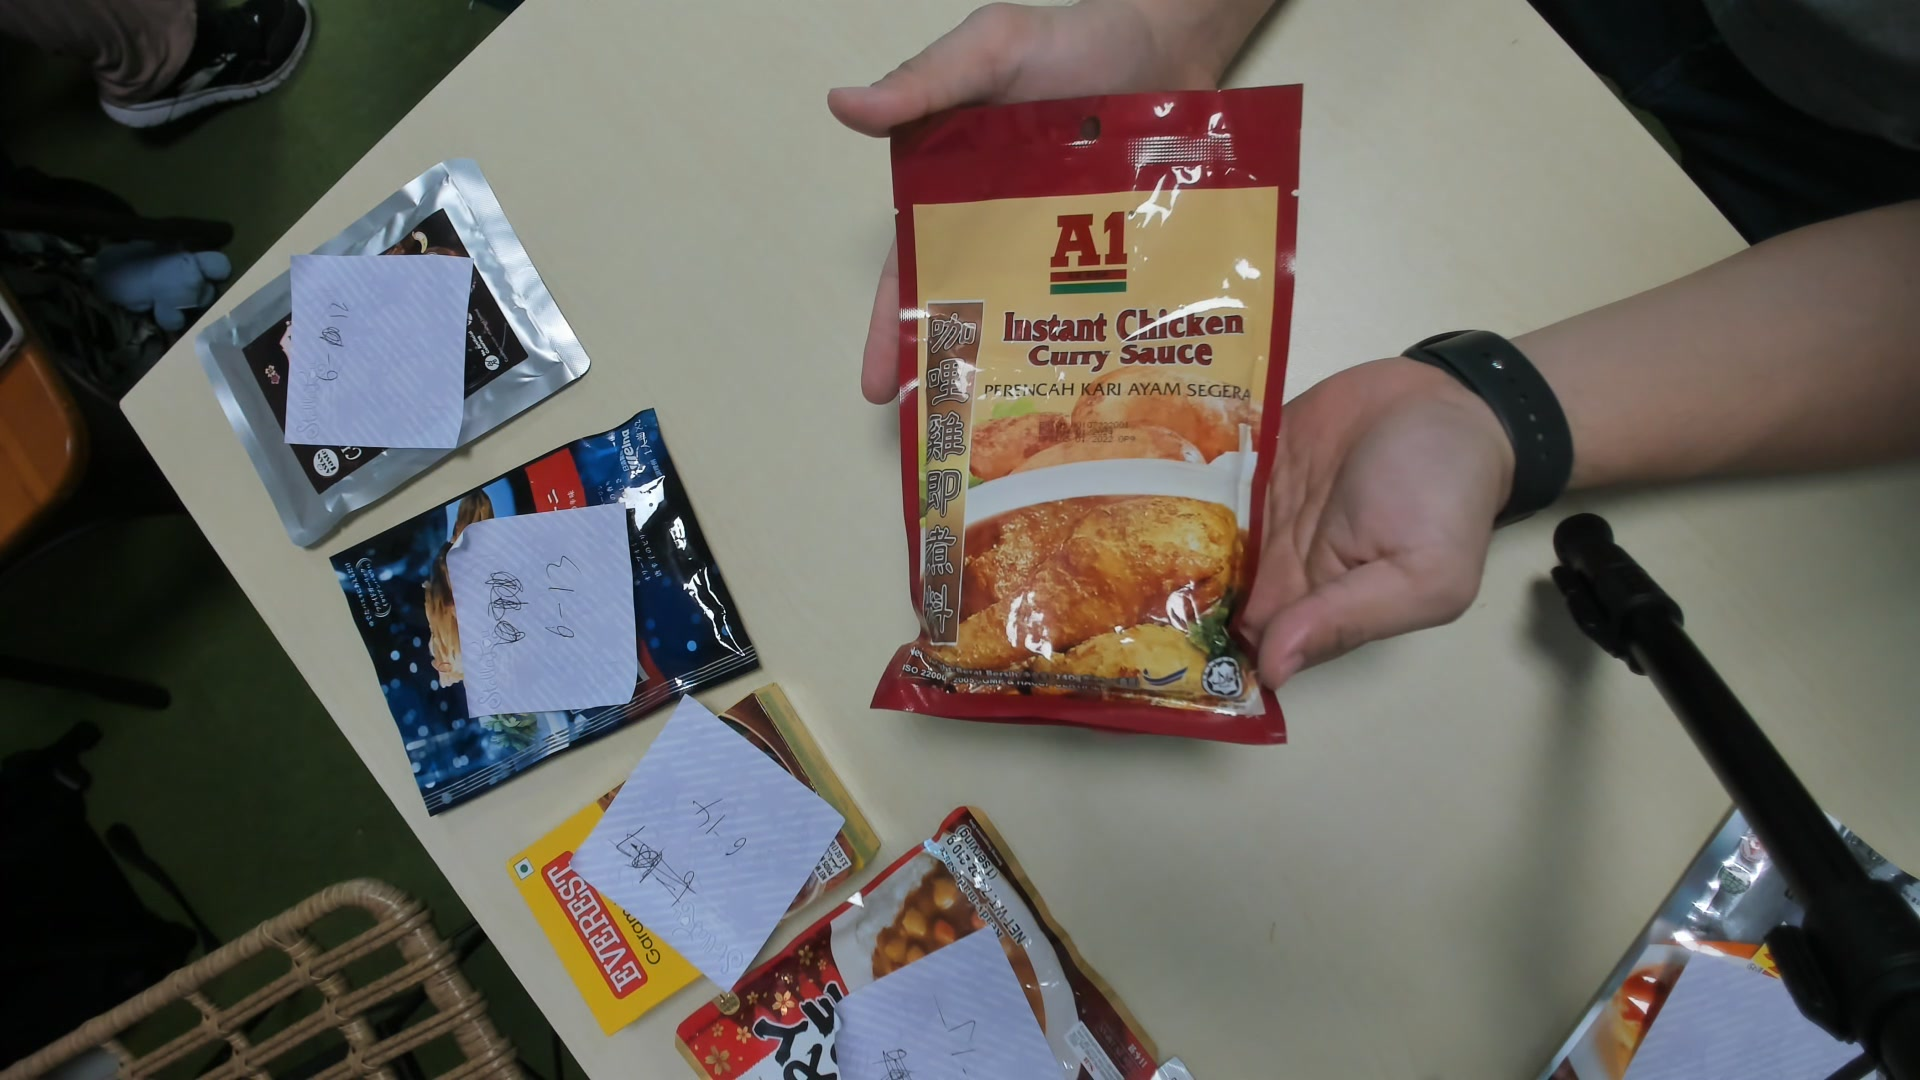CurryPastePowderSauce_200-299g_Halal_NonHealthy: (884, 88, 1273, 745)
